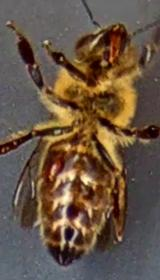varroa_mite: (34, 150, 72, 181)
